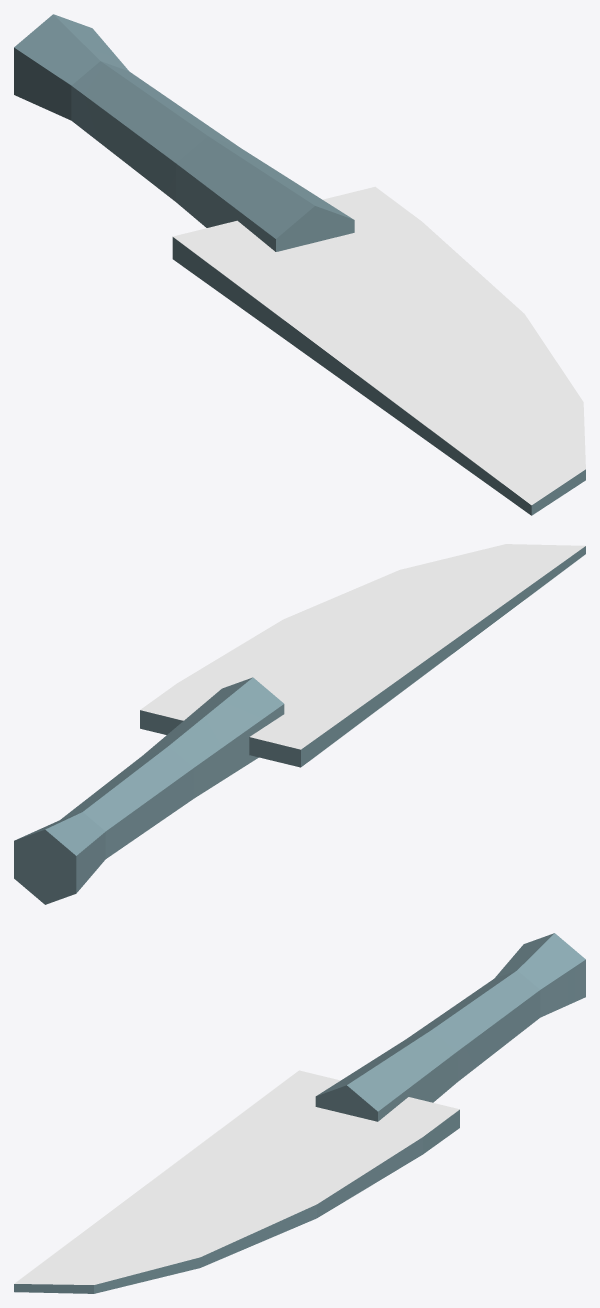
The model's file is knife.glb.
The picture shows the model from 3 angles, top to bottom: view 1: azimuth 30°, elevation 25°; view 2: azimuth 150°, elevation 25°; view 3: azimuth 330°, elevation 25°; orthographic projection. The views are drawn at different scales.
Parts seen in each view (by area): view 1: Knife.001; view 2: Knife.001; view 3: Knife.001.
Part boxes in pixels (x1=…): Knife.001: x1=14, y1=14, x2=585, y2=515; Knife.001: x1=14, y1=544, x2=585, y2=904; Knife.001: x1=14, y1=933, x2=585, y2=1293.
Size of the model in its own units: 0.0653 by 0.0292 by 0.3232.
1 material, 1 textured.
